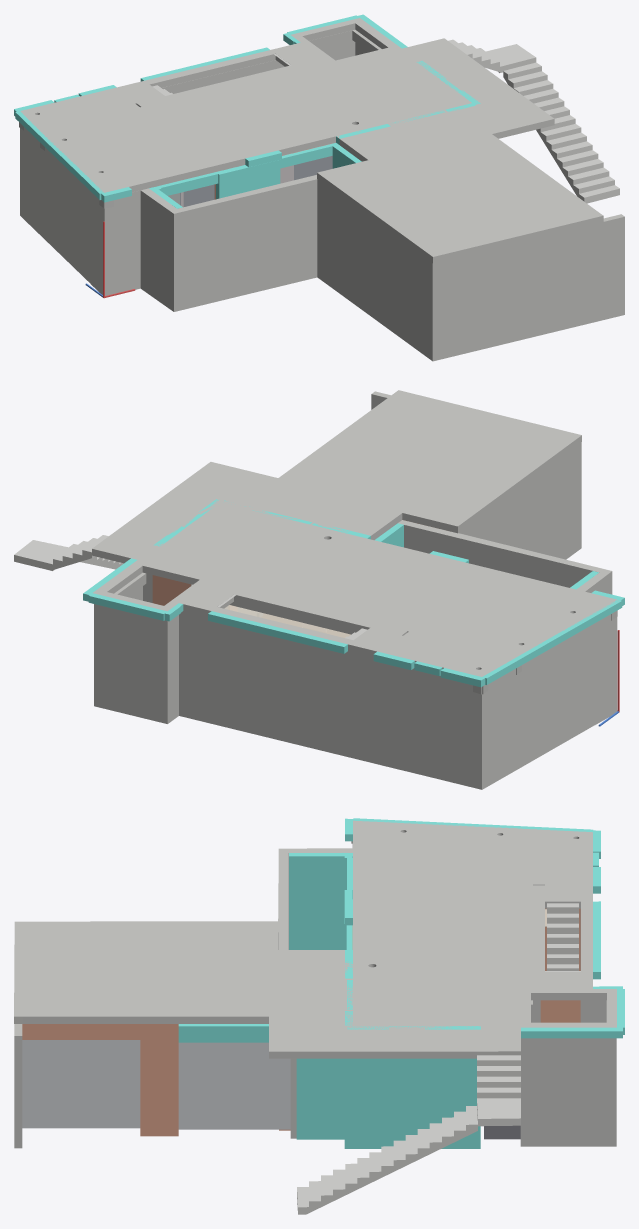
File: House_AR_BS.glb
The picture shows the model from 3 angles, top to bottom: view 1: azimuth 30°, elevation 25°; view 2: azimuth 150°, elevation 25°; view 3: azimuth 270°, elevation 25°; orthographic projection. The views are drawn at different scales.
Parts seen in each view (by area): view 1: GF-SB01, BS-RS01, BS-RCW01, BS-RCW04, BS-RCW02, BS-ST02, BS-RCW09, BS-RCW08, BS-COL03, BS-RCW10, BS-ET08, BS-RCW07 (+10 smaller); view 2: GF-SB01, BS-RS01, BS-RCW05, BS-COL07, BS-RCW02, BS-RCW08, BS-RCW04, BS-RCW06, BS-COL08, BS-RCW07, BS-COL03, BS-COL09 (+14 smaller); view 3: GF-SB01, BS-RS01, BS-COL07, BS-GD02, BS-ET01, BS-GD01, BS-ET06, BS-ST02, BS-BW01, BS-ET03, BS-ST01, BS-ST03 (+10 smaller).
Boxes of the visible parts, x1,y1,x2,y2 form: GF-SB01: (20,18,554,192); BS-RS01: (317,134,603,263); BS-RCW01: (429,214,624,361); BS-RCW04: (177,175,317,309); BS-RCW02: (317,179,429,358); BS-ST02: (503,62,619,203); BS-RCW09: (140,188,181,311); BS-RCW08: (45,152,90,283); BS-COL03: (90,196,117,295); BS-RCW10: (117,200,140,292); BS-ET08: (216,160,280,199); BS-RCW07: (25,132,41,235); GF-SB01: (92,462,618,676); BS-RS01: (275,390,581,533); BS-RCW05: (182,621,380,764); BS-COL07: (94,573,182,723); BS-RCW02: (458,445,578,559); BS-RCW08: (522,630,594,766); BS-RCW04: (398,520,603,587); BS-RCW06: (400,674,449,781); BS-COL08: (449,686,489,789); BS-RCW07: (490,675,515,784); BS-COL03: (595,617,617,724); BS-COL09: (380,669,400,769); GF-SB01: (269,819,616,1058); BS-RS01: (14,921,278,1023); BS-COL07: (520,1000,616,1146); BS-GD02: (22,1040,140,1128); BS-ET01: (344,1058,480,1148); BS-GD01: (178,1042,290,1129); BS-ET06: (289,853,352,949); BS-ST02: (297,1106,477,1214); BS-BW01: (140,1024,178,1136); BS-ET03: (296,1058,344,1139); BS-ST01: (547,903,578,970); BS-ST03: (477,1055,520,1098).
Bounding box in the file's own units: 16.39 × 3.3 × 15.27.
